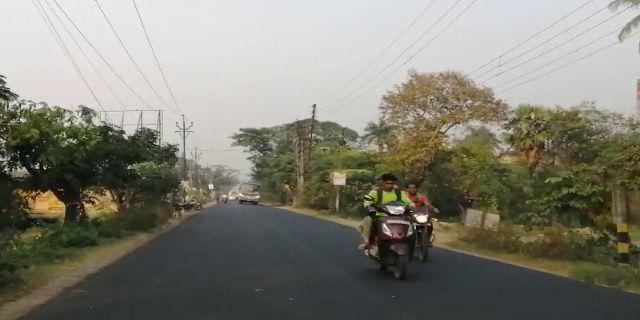Motorbike: (358, 171, 413, 281), (400, 184, 447, 262)
